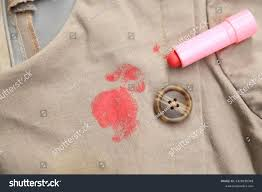kimchi: (92, 76, 141, 147), (102, 64, 147, 95), (148, 45, 161, 56)
